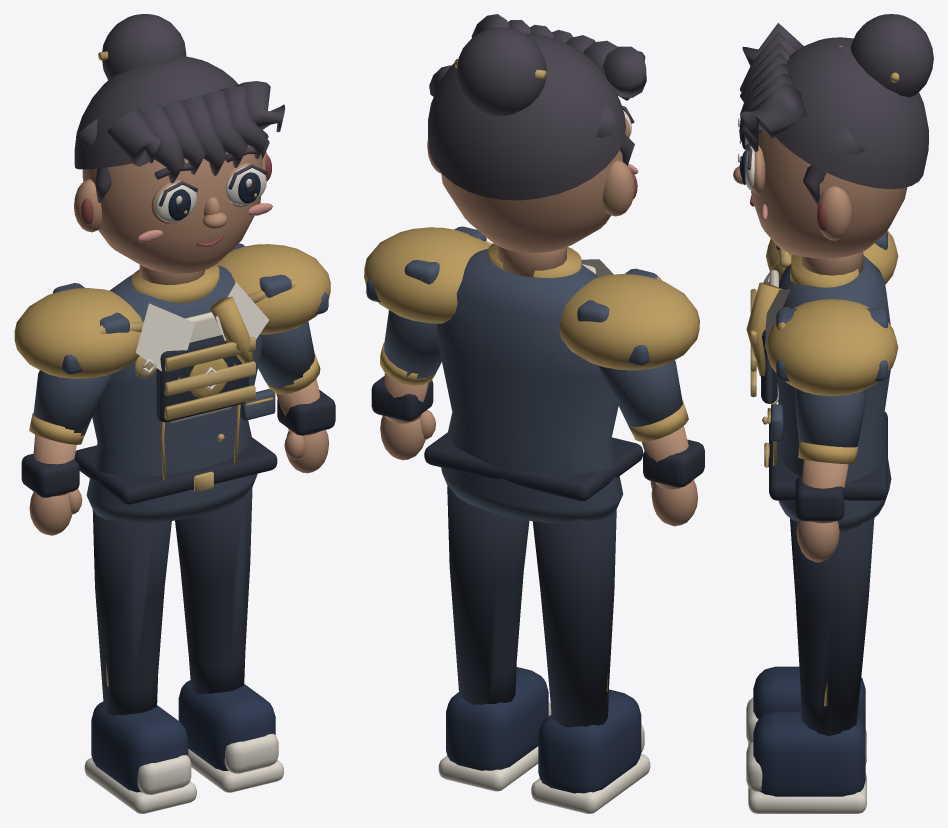
Rendered from xingyin-characters-v1__elite_iron_royal_guard.glb.
The picture shows the model from 3 angles, left to right: view 1: azimuth 30°, elevation 25°; view 2: azimuth 150°, elevation 25°; view 3: azimuth 270°, elevation 25°; orthographic projection. The views are drawn at different scales.
Parts seen in each view (by area): view 1: figure.023; view 2: figure.023; view 3: figure.023.
Part boxes in pixels (box(x1,y1,x2,y2)): figure.023: box(14, 14, 335, 813); figure.023: box(364, 14, 704, 813); figure.023: box(733, 14, 933, 813).
Bounding box in the file's own units: 1.14 × 2.63 × 0.629.
